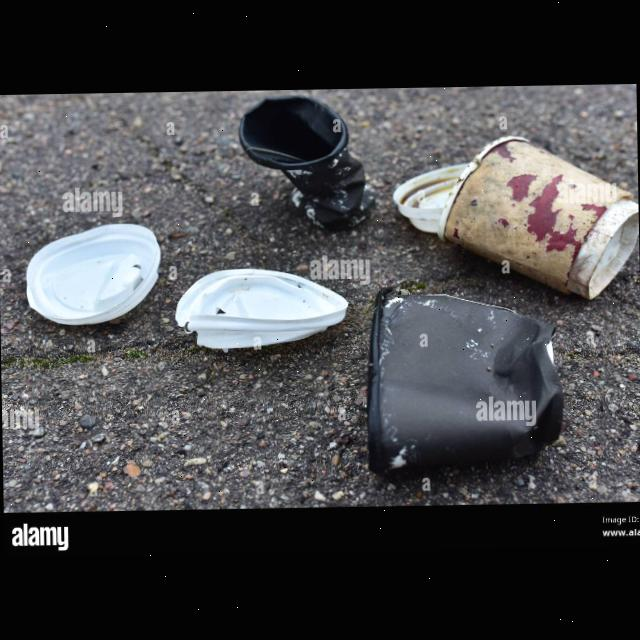trash: (366, 279, 570, 472), (440, 132, 640, 302), (236, 89, 378, 230)
